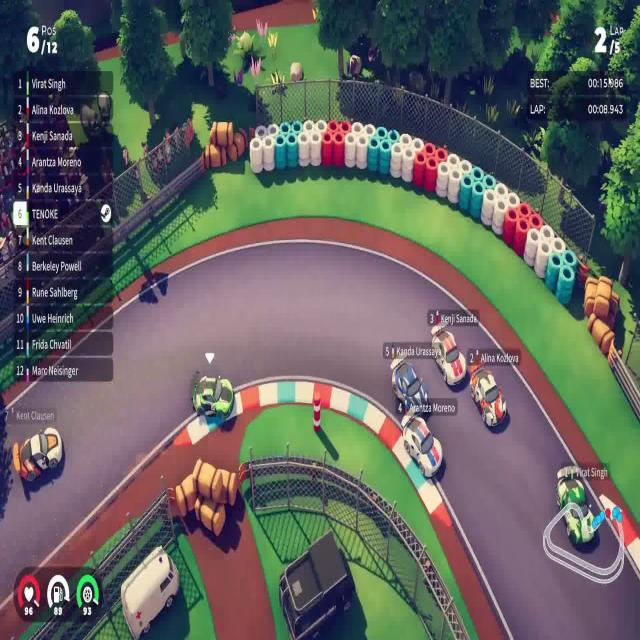car: (555, 461, 597, 545), (12, 426, 63, 484), (400, 412, 443, 479), (469, 365, 507, 429), (389, 356, 429, 414), (430, 326, 467, 387), (192, 373, 234, 421)
